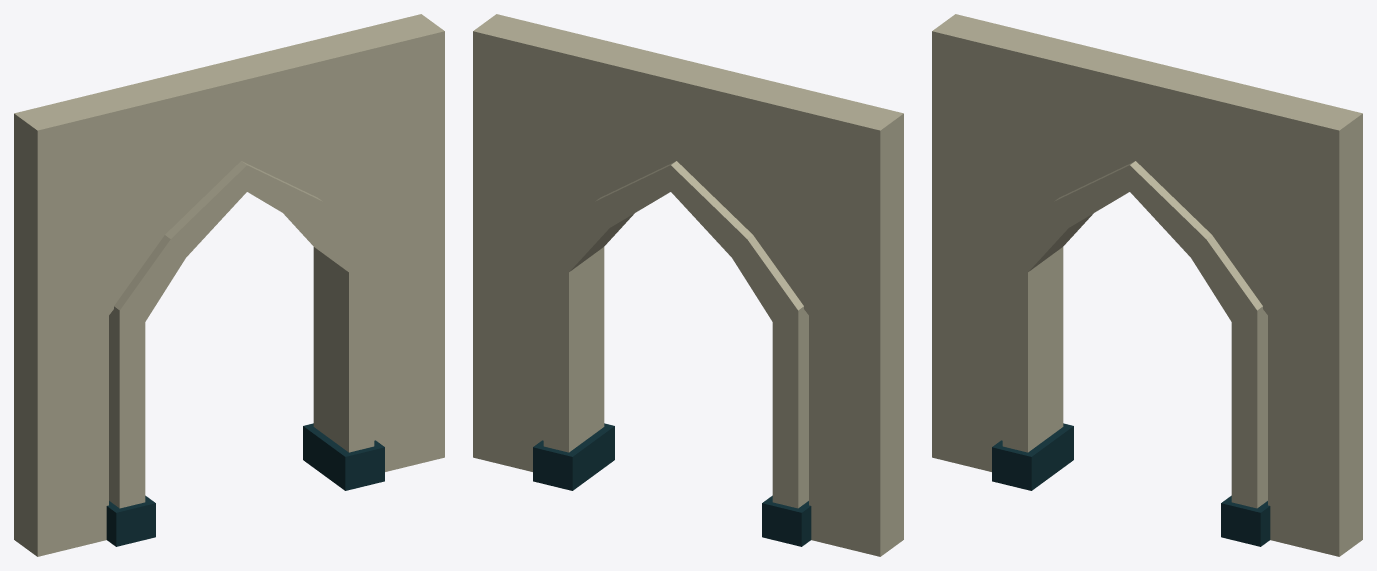
File: WP_A11_doorway_wall_4m_v02.glb
The picture shows the model from 3 angles, left to right: view 1: azimuth 30°, elevation 25°; view 2: azimuth 150°, elevation 25°; view 3: azimuth 330°, elevation 25°; orthographic projection.
Visible parts, largest first — view 1: DoorwayWall; view 2: DoorwayWall; view 3: DoorwayWall.
Boxes of the visible parts, <box> form: DoorwayWall: <box>14,14,444,556</box>; DoorwayWall: <box>473,14,903,556</box>; DoorwayWall: <box>932,14,1362,556</box>.
Size of the model in its own units: 4 by 4 by 0.72.
